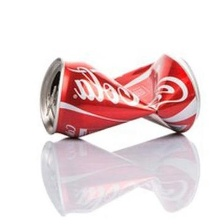can: (34, 48, 206, 138), (33, 132, 203, 217)
